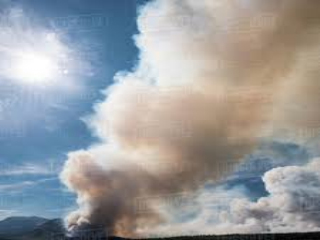smoke: (64, 34, 263, 233)
